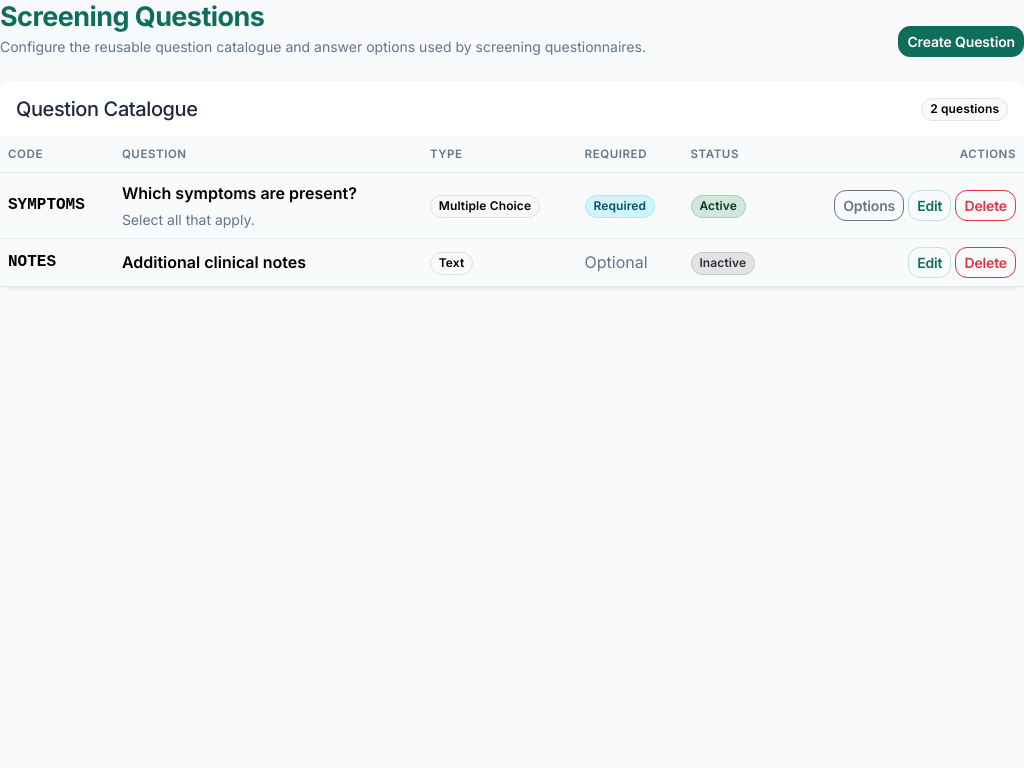
Test: ScreeningQuestionsPage › renders answer options in ascending display order
What coordinates should you click on to do the following:
click the button with aria-label "Manage options for SYMPTOMS"
I would click on:
 (869, 205)
Its box is [834,190,904,221].
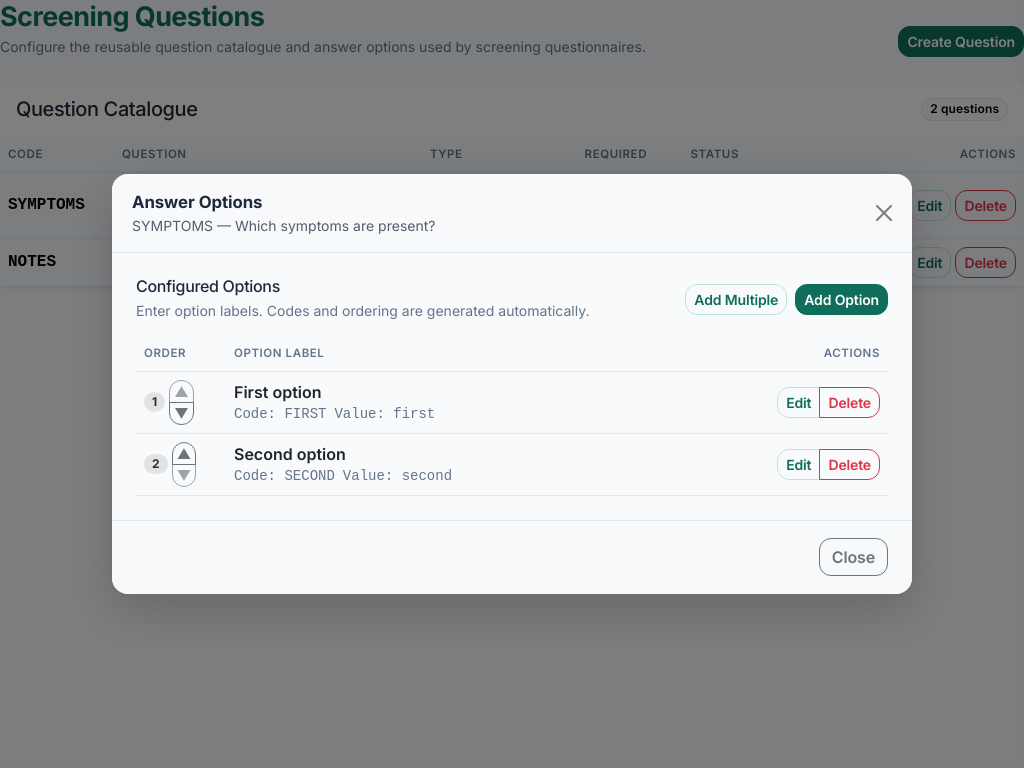
Expected: the text "First option" is shown, [234,382,322,402]
Expected: the text "Second option" is shown, [234,444,346,464]
